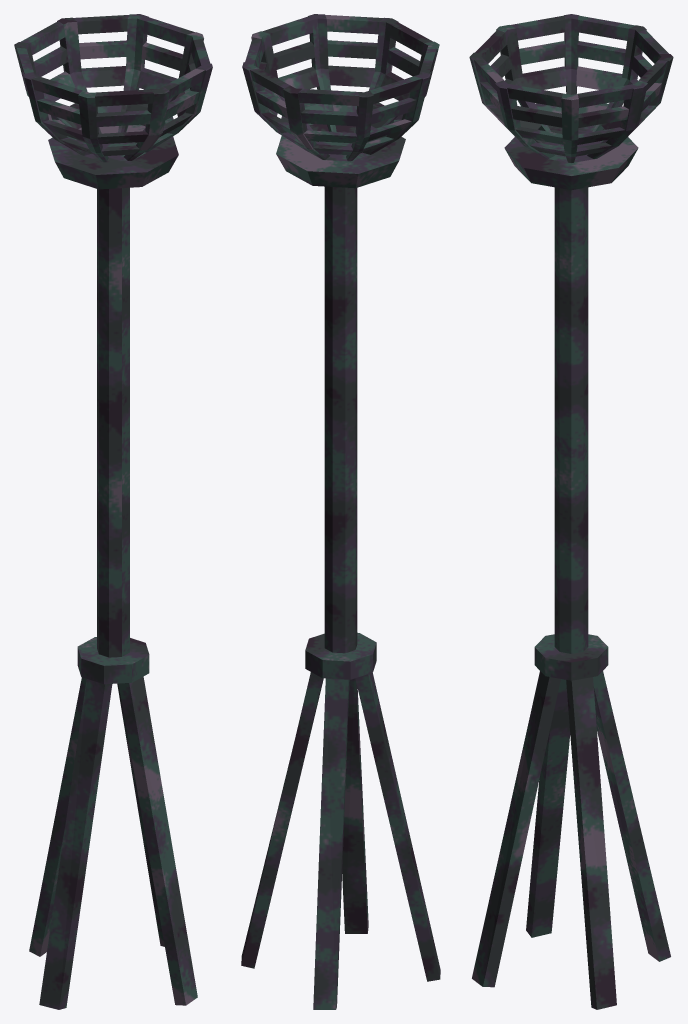
Rendered from Standfackel V1.fbx.
3 renders of one model, left to right at view 1: azimuth 30°, elevation 25°; view 2: azimuth 150°, elevation 25°; view 3: azimuth 270°, elevation 25°, orthographic.
Parts seen in each view (by area): view 1: Standfackel V1; view 2: Standfackel V1; view 3: Standfackel V1.
Boxes of the visible parts, <box> form: Standfackel V1: <box>14,14,212,1009</box>; Standfackel V1: <box>241,14,440,1009</box>; Standfackel V1: <box>469,14,673,1009</box>.
Bounding box in the file's own units: 30.42 × 30.42 × 150.
1 material, 1 textured.
